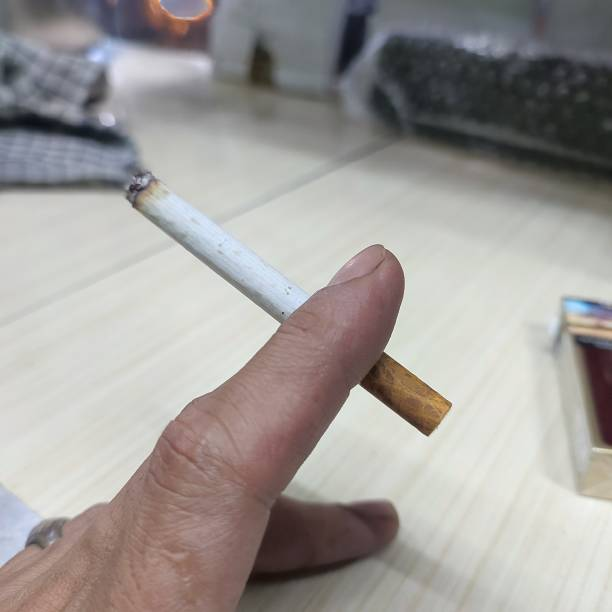cigarette: (124, 170, 452, 439)
